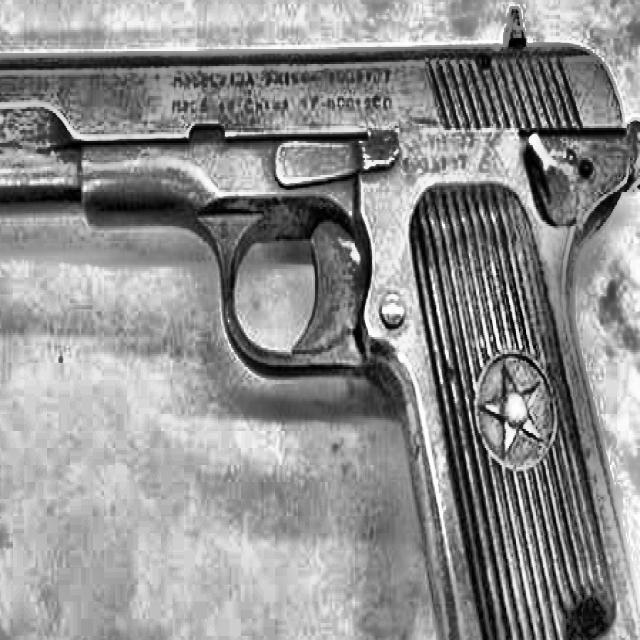Norinco: (0, 4, 640, 640)
